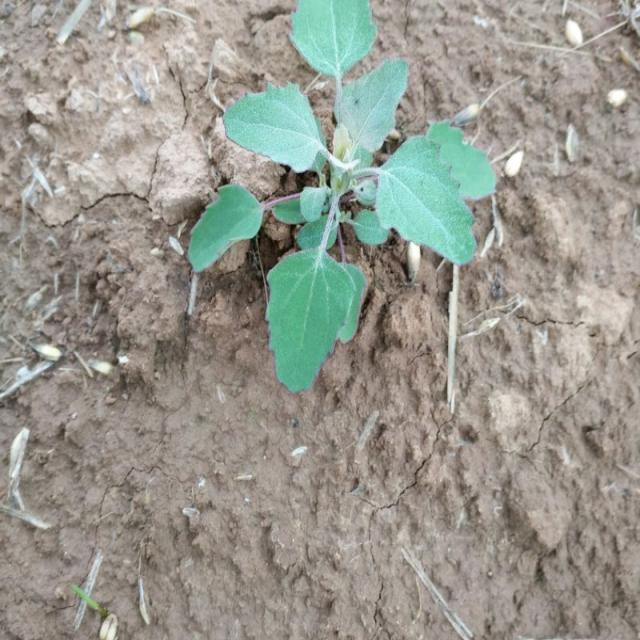goosefoots: (176, 1, 478, 383)
